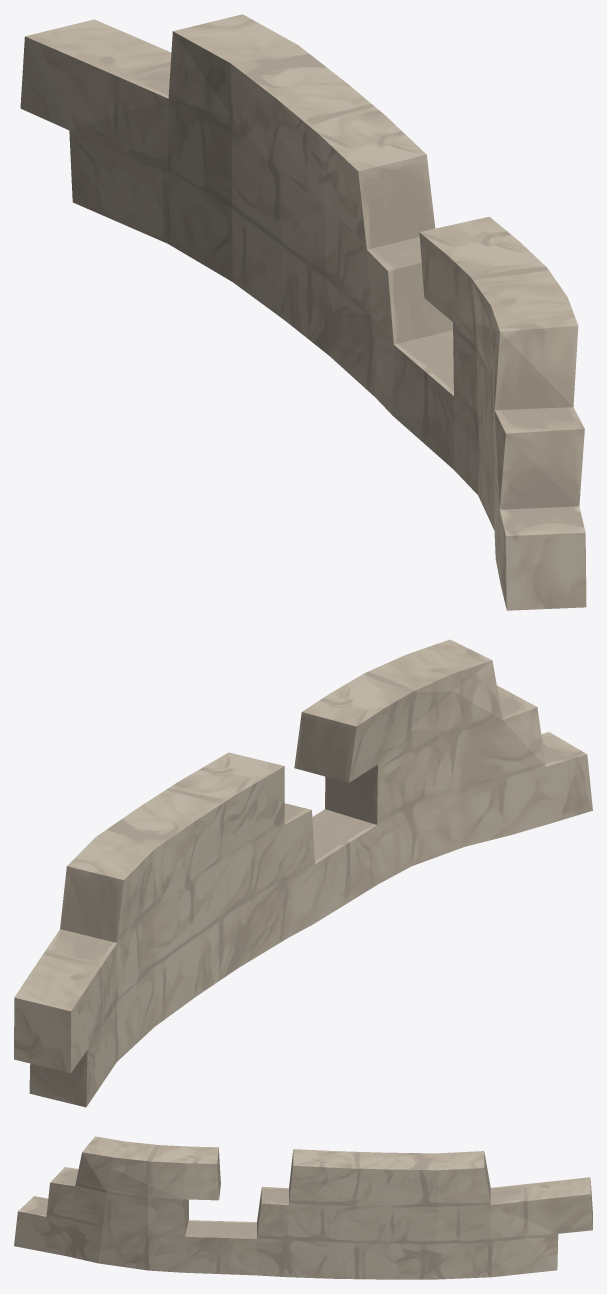
File: murek_3.obj
The picture shows the model from 3 angles, top to bottom: view 1: azimuth 30°, elevation 25°; view 2: azimuth 150°, elevation 25°; view 3: azimuth 270°, elevation 25°; orthographic projection. The views are drawn at different scales.
Parts seen in each view (by area): view 1: Vert.009; view 2: Vert.009; view 3: Vert.009.
Part boxes in pixels (x1,y1,x2,y2): Vert.009: (20, 14, 586, 610); Vert.009: (14, 639, 592, 1107); Vert.009: (14, 1136, 592, 1279).
Size of the model in its own units: 12.04 by 12.58 by 60.27.
1 material, 1 textured.
